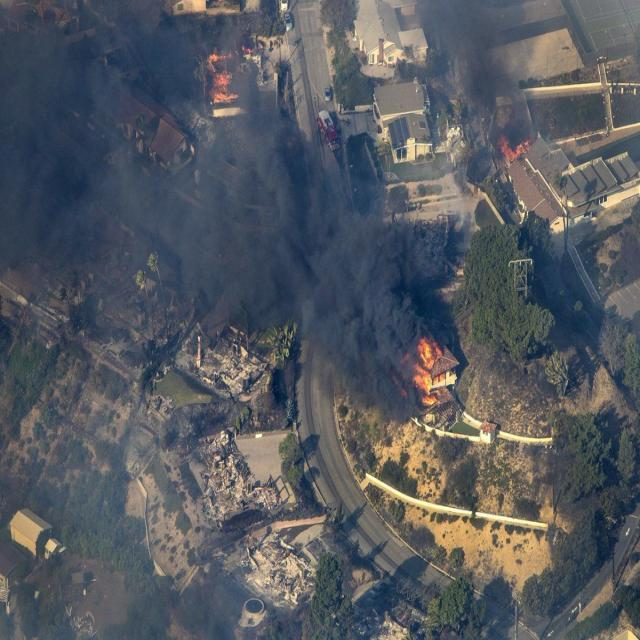Fire: (197, 36, 260, 123), (401, 330, 464, 407)
Smoke: (0, 0, 547, 450)
